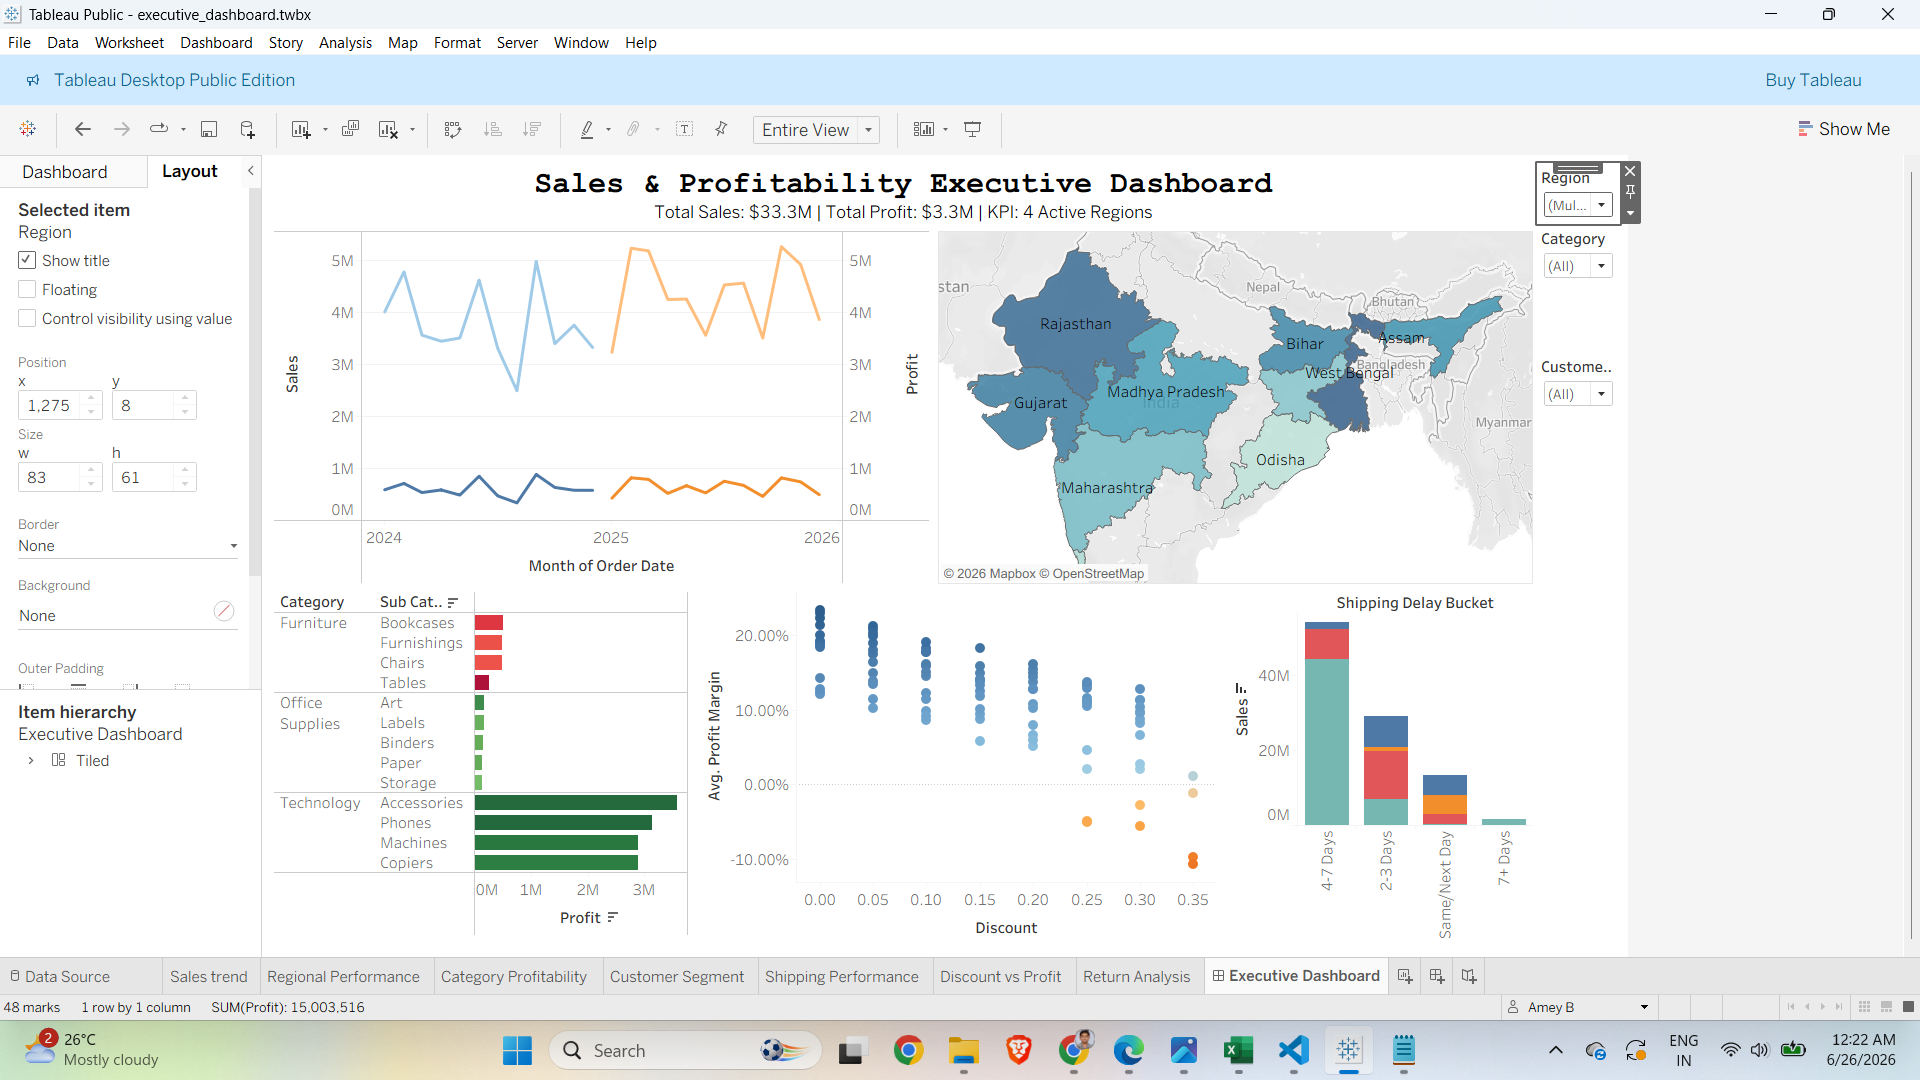

Layout of this report page (visuals, bound fields, positions):
{"tool":"tableau","page":{"name":"Executive Dashboard","canvas":[1000,1000],"units":"permille","ordinal":0},"visuals":[{"type":"title","box":[5.9,10,927.5,79.8]},{"type":"filter","title":"Sales trend","param":"[federated.1iebiw10bxbxkd13mzcti1a54hbl].[none:region:nk]","box":[933.4,10,60.8,76.1]},{"type":"filter","title":"Sales trend","param":"[federated.1iebiw10bxbxkd13mzcti1a54hbl].[none:category:nk]","box":[933.4,86,60.8,159.6]},{"type":"worksheet","title":"Sales trend","mark":"Automatic","rows":["sales","profit"],"cols":["order_date"],"box":[5.9,89.8,486.2,450.1]},{"type":"worksheet","title":"Regional Performance","mark":"Multipolygon","box":[492.1,89.8,441.3,450.1]},{"type":"filter","title":"Sales trend","param":"[federated.1iebiw10bxbxkd13mzcti1a54hbl].[none:customer_segment:nk]","box":[933.4,245.7,60.8,76.1]},{"type":"worksheet","title":"Category Profitability","mark":"Automatic","rows":["category","sub_category"],"cols":["profit"],"box":[5.9,539.9,308.6,450.1]},{"type":"worksheet","title":"Discount vs Profit","mark":"Circle","rows":["Calculation_0745759881949184"],"cols":["discount"],"box":[314.5,539.9,387,450.1]},{"type":"worksheet","title":"Shipping Performance","mark":"Automatic","rows":["sales"],"cols":["Calculation_0745760088350725"],"box":[701.5,539.9,231.9,450.1]}]}

Visuals, with their boxes on the dashboard's canvas, which has no fixed pixel size, in thousandths of its width and height (x1, y1, x2, y2). These are canvas units, not pixel positions in the 1920x1080 screenshot, which may show the page scaled, cropped or inside an application window:
title: (6, 10, 933, 90)
"Sales trend" filter: (933, 10, 994, 86)
"Sales trend" filter: (933, 86, 994, 246)
"Sales trend" worksheet: (6, 90, 492, 540)
"Regional Performance" worksheet (Multipolygon marks): (492, 90, 933, 540)
"Sales trend" filter: (933, 246, 994, 322)
"Category Profitability" worksheet: (6, 540, 314, 990)
"Discount vs Profit" worksheet (Circle marks): (314, 540, 702, 990)
"Shipping Performance" worksheet: (702, 540, 933, 990)
